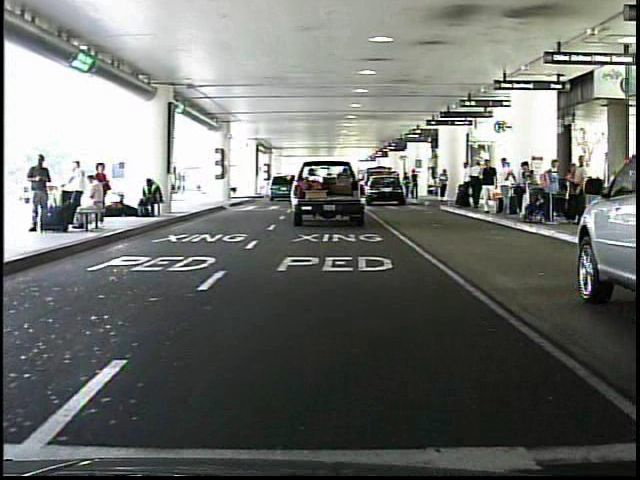person: (28, 152, 58, 237), (476, 156, 501, 224), (497, 157, 517, 220), (457, 156, 478, 212), (436, 166, 452, 206), (411, 169, 421, 204), (402, 170, 412, 203)
